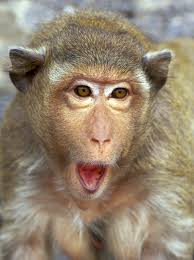monkey: (8, 10, 162, 233)
